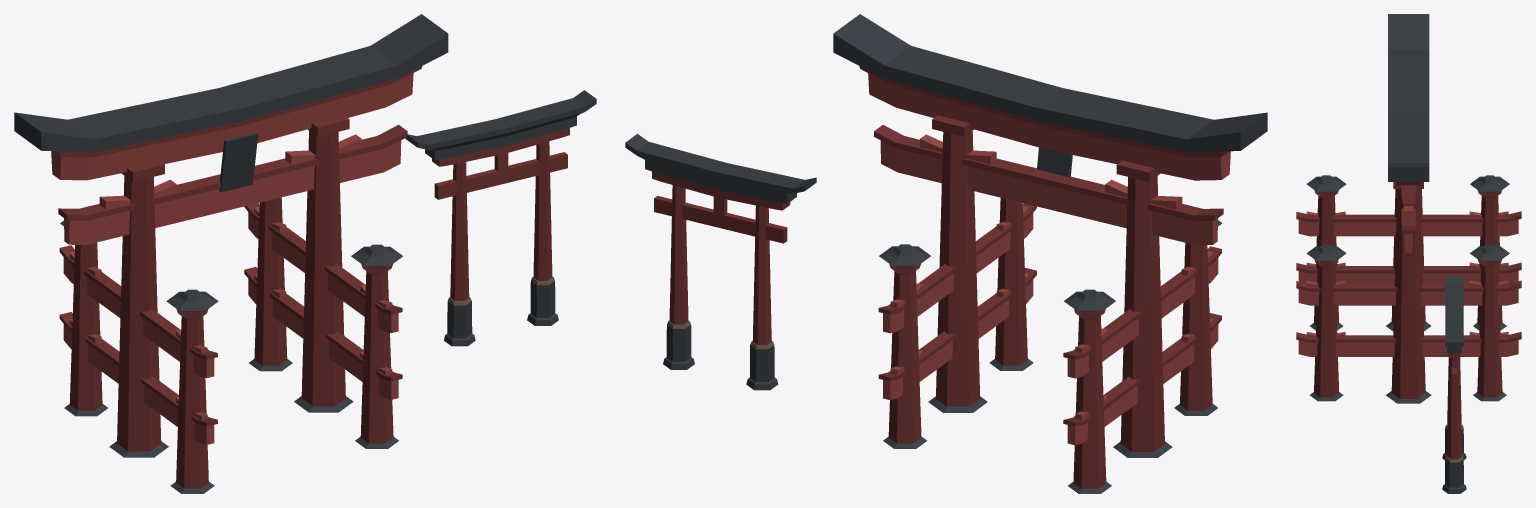
The model's file is Japanese_Gates_Torii_Low_Poly.glb.
The picture shows the model from 3 angles, left to right: view 1: azimuth 30°, elevation 25°; view 2: azimuth 150°, elevation 25°; view 3: azimuth 270°, elevation 25°; orthographic projection. The views are drawn at different scales.
Parts seen in each view (by area): view 1: Cylinder.002_0, Cylinder.002_2, Cylinder.002_1, Cylinder_0, Cylinder_1; view 2: Cylinder.002_0, Cylinder.002_2, Cylinder.002_1, Cylinder_0, Cylinder_1; view 3: Cylinder.002_0, Cylinder.002_2, Cylinder.002_1, Cylinder_1, Cylinder_0.
Boxes of the visible parts, bbox=[...] form: Cylinder.002_0: bbox=[53, 66, 422, 488]; Cylinder.002_2: bbox=[51, 73, 413, 444]; Cylinder.002_1: bbox=[14, 14, 448, 493]; Cylinder_0: bbox=[432, 128, 569, 300]; Cylinder_1: bbox=[405, 90, 596, 346]; Cylinder.002_0: bbox=[859, 66, 1228, 488]; Cylinder.002_2: bbox=[868, 73, 1230, 445]; Cylinder.002_1: bbox=[833, 14, 1267, 493]; Cylinder_0: bbox=[652, 171, 790, 344]; Cylinder_1: bbox=[625, 134, 816, 390]; Cylinder.002_0: bbox=[1296, 182, 1521, 398]; Cylinder.002_2: bbox=[1298, 185, 1518, 356]; Cylinder.002_1: bbox=[1306, 14, 1509, 403]; Cylinder_1: bbox=[1442, 275, 1466, 493]; Cylinder_0: bbox=[1447, 353, 1461, 459].
Bounding box in the file's own units: 22.82 × 12.98 × 9.78.
